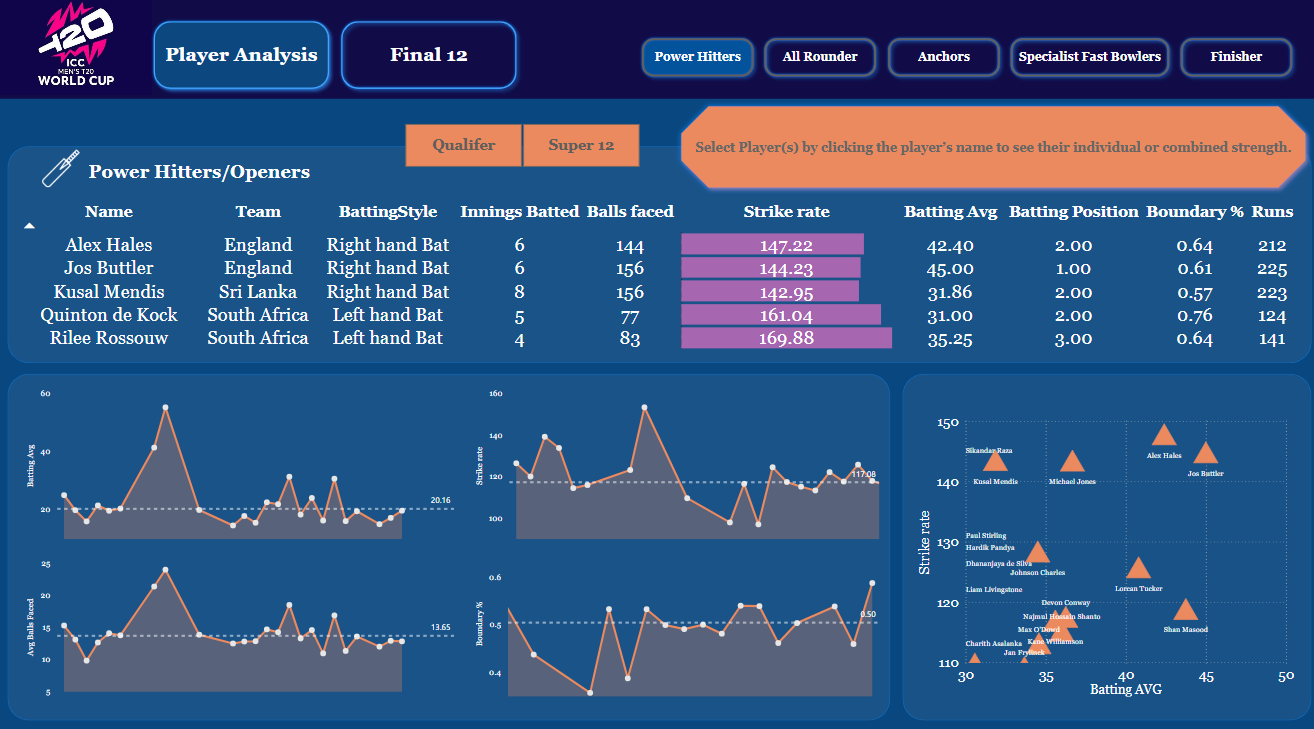

Layout of this report page (visuals, bound fields, positions):
{"tool":"powerbi","page":{"name":"Power Hitter/Openers","canvas":[1920,1080],"ordinal":1},"visuals":[{"type":"shape","box":[0,158,1920,922],"z":0},{"type":"shape","box":[18,226,1888,314],"z":1000},{"type":"shape","box":[18,556,1278,502],"z":2000},{"type":"shape","box":[1314,556,592,502],"z":3000},{"type":"tableEx","fields":{"Values":["dim_players.name","dim_players.team","dim_players.battingStyle","Key measures.Total Innings Batted","Key measures.total balls faced","Key measures.Strike rate","Key measures.Batting Avg","Key measures.Batting Position","Key measures.Boundary %","Key measures.Total Runs"]},"box":[30,300,1876,226],"z":4000},{"type":"image","box":[0,0,232.1,157.3],"z":5000},{"type":"slicer","fields":{"Values":["dim_match_summary.stage"]},"box":[574,192,378,66],"z":6000},{"type":"shape","box":[116,224,360,76],"z":7000},{"type":"scatterChart","fields":{"X":["Key measures.Batting Avg"],"Y":["Key measures.Strike rate"],"Category":["dim_players.name"]},"box":[1330,606,556,422],"z":8000},{"type":"shape","box":[984,158.5,922,136],"z":9000},{"type":"cardVisual","fields":{"Data":["Key measures.Batting Avg"]},"box":[1474,158,156,136],"z":10000},{"type":"cardVisual","fields":{"Data":["Key measures.Strike rate"]},"box":[1608,166,144,124],"z":11000},{"type":"cardVisual","fields":{"Data":["Key measures.Boundary %"]},"box":[1732,172,174,110],"z":12000},{"type":"cardVisual","fields":{"Data":["Key measures.Average Balls Faced"]},"box":[1296,160,230,136],"z":13000},{"type":"shape","box":[984,192,340,76],"z":14000},{"type":"actionButton","box":[928,62,178,72],"z":15000},{"type":"actionButton","box":[1106,62,178,72],"z":16000},{"type":"actionButton","box":[1284,62,178,72],"z":17000},{"type":"actionButton","box":[1462,62,246,72],"z":18000},{"type":"actionButton","box":[1708,62,178,72],"z":19000},{"type":"areaChart","fields":{"Y":["Key measures.Batting Avg"],"Category":["dim_match_summary.matchDate.Variation.Date Hierarchy.Day"]},"box":[42,570,628,230],"z":20000},{"type":"areaChart","fields":{"Y":["Key measures.Strike rate"],"Category":["dim_match_summary.matchDate.Variation.Date Hierarchy.Day"]},"box":[692,570,594,230],"z":21000},{"type":"areaChart","fields":{"Y":["Key measures.Avg Balls Faced"],"Category":["dim_match_summary.matchDate.Variation.Date Hierarchy.Day"]},"box":[42,816,628,212],"z":22000},{"type":"areaChart","fields":{"Y":["Key measures.Boundary %"],"Category":["dim_match_summary.matchDate.Variation.Date Hierarchy.Day"]},"box":[692,800,594,228],"z":23000},{"type":"image","box":[36,226,118,64],"z":24000},{"type":"actionButton","box":[220,36,272,116],"z":25000},{"type":"actionButton","box":[492,36,272,116],"z":26000},{"type":"shape","box":[1002,198,886,62],"z":27000}]}

Visuals, with their boxes in screenshot pixels (x1, y1, x2, y2), scaled from the page's 1920x1080 canvas onto the 1314x729 screenshot:
shape: pyautogui.locateOnScreen(0, 107, 1313, 728)
shape: pyautogui.locateOnScreen(12, 153, 1304, 364)
shape: pyautogui.locateOnScreen(12, 375, 887, 714)
shape: pyautogui.locateOnScreen(899, 375, 1304, 714)
tableEx - dim_players.name x dim_players.team: pyautogui.locateOnScreen(21, 202, 1304, 355)
image: pyautogui.locateOnScreen(0, 0, 159, 106)
slicer - dim_match_summary.stage: pyautogui.locateOnScreen(393, 130, 652, 174)
shape: pyautogui.locateOnScreen(79, 151, 326, 202)
scatterChart - Key measures.Batting Avg x Key measures.Strike rate: pyautogui.locateOnScreen(910, 409, 1291, 694)
shape: pyautogui.locateOnScreen(673, 107, 1304, 199)
cardVisual - Key measures.Batting Avg: pyautogui.locateOnScreen(1009, 107, 1116, 198)
cardVisual - Key measures.Strike rate: pyautogui.locateOnScreen(1100, 112, 1199, 196)
cardVisual - Key measures.Boundary %: pyautogui.locateOnScreen(1185, 116, 1304, 190)
cardVisual - Key measures.Average Balls Faced: pyautogui.locateOnScreen(887, 108, 1044, 200)
shape: pyautogui.locateOnScreen(673, 130, 906, 181)
actionButton: pyautogui.locateOnScreen(635, 42, 757, 90)
actionButton: pyautogui.locateOnScreen(757, 42, 879, 90)
actionButton: pyautogui.locateOnScreen(879, 42, 1001, 90)
actionButton: pyautogui.locateOnScreen(1001, 42, 1169, 90)
actionButton: pyautogui.locateOnScreen(1169, 42, 1291, 90)
areaChart - Key measures.Batting Avg x dim_match_summary.matchDate.Variation.Date Hierarchy.Day: pyautogui.locateOnScreen(29, 385, 459, 540)
areaChart - Key measures.Strike rate x dim_match_summary.matchDate.Variation.Date Hierarchy.Day: pyautogui.locateOnScreen(474, 385, 880, 540)
areaChart - Key measures.Avg Balls Faced x dim_match_summary.matchDate.Variation.Date Hierarchy.Day: pyautogui.locateOnScreen(29, 551, 459, 694)
areaChart - Key measures.Boundary % x dim_match_summary.matchDate.Variation.Date Hierarchy.Day: pyautogui.locateOnScreen(474, 540, 880, 694)
image: pyautogui.locateOnScreen(25, 153, 105, 196)
actionButton: pyautogui.locateOnScreen(151, 24, 337, 103)
actionButton: pyautogui.locateOnScreen(337, 24, 523, 103)
shape: pyautogui.locateOnScreen(686, 134, 1292, 176)
